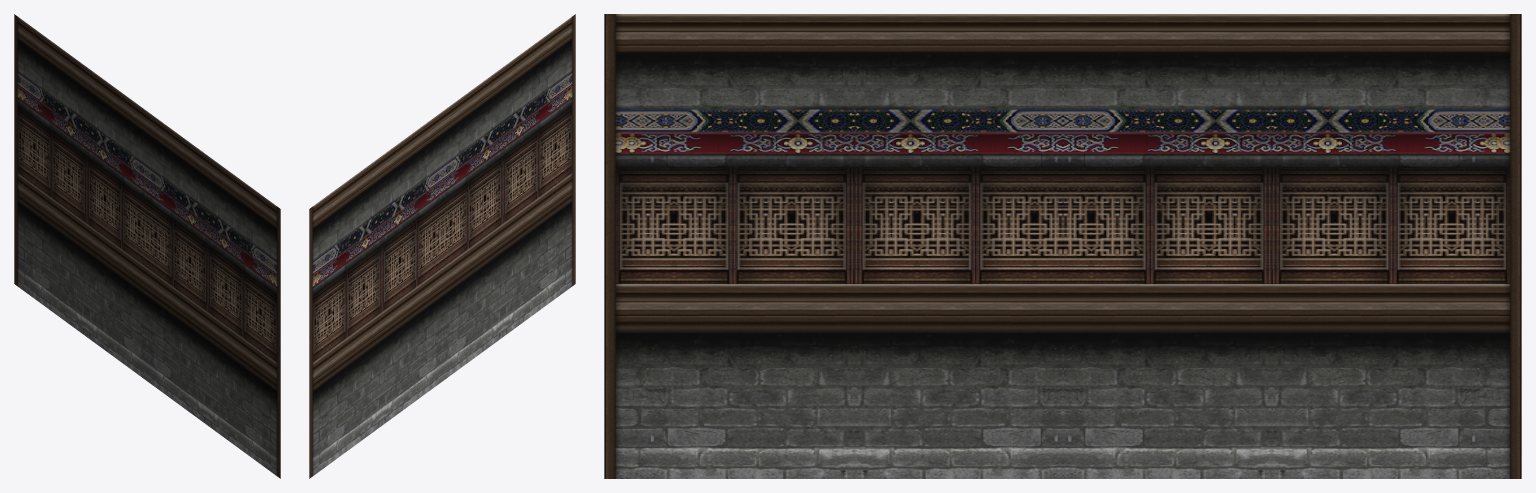
Rendered from SwordRoom_1_newwall01.FBX.
The picture shows the model from 3 angles, left to right: view 1: azimuth 30°, elevation 25°; view 2: azimuth 150°, elevation 25°; view 3: azimuth 270°, elevation 25°; orthographic projection. The views are drawn at different scales.
Visible parts, largest first — view 1: SwordRoom_1_newwall01; view 2: SwordRoom_1_newwall01; view 3: SwordRoom_1_newwall01.
Boxes of the visible parts, x1,y1,x2,y2 form: SwordRoom_1_newwall01: (14, 14, 280, 478); SwordRoom_1_newwall01: (309, 14, 575, 478); SwordRoom_1_newwall01: (604, 14, 1521, 478).
Bounding box in the file's own units: 0.0935 × 607 × 1086.
1 material, 1 textured.
